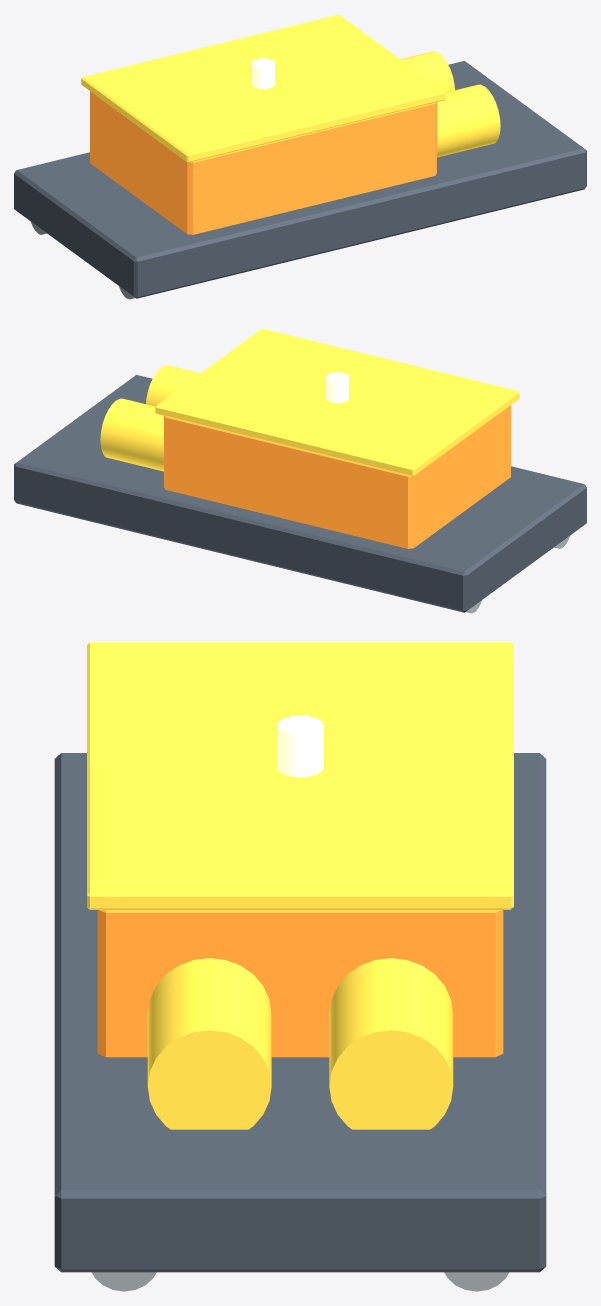
The model's file is rebar-gantry-trolley-v4-high.glb.
3 views of the same model, one above another, from view 1: azimuth 30°, elevation 25°; view 2: azimuth 150°, elevation 25°; view 3: azimuth 270°, elevation 25° (orthographic). The views are drawn at different scales.
Parts seen in each view (by area): view 1: rebar-gantry-trolley-v4-high.glb-v5_heavy_gunmetal, rebar-gantry-trolley-v4-high.glb-v5_crane_yellow, rebar-gantry-trolley-v4-high.glb-v5_crane_orange, rebar-gantry-trolley-v4-high.glb-v5_warm_lamp; view 2: rebar-gantry-trolley-v4-high.glb-v5_heavy_gunmetal, rebar-gantry-trolley-v4-high.glb-v5_crane_yellow, rebar-gantry-trolley-v4-high.glb-v5_crane_orange, rebar-gantry-trolley-v4-high.glb-v5_warm_lamp; view 3: rebar-gantry-trolley-v4-high.glb-v5_crane_yellow, rebar-gantry-trolley-v4-high.glb-v5_heavy_gunmetal, rebar-gantry-trolley-v4-high.glb-v5_crane_orange, rebar-gantry-trolley-v4-high.glb-v5_warm_lamp, rebar-gantry-trolley-v4-high.glb-v5_bright_steel.
Boxes of the visible parts, bbox=[...] form: rebar-gantry-trolley-v4-high.glb-v5_heavy_gunmetal: bbox=[14, 61, 586, 298]; rebar-gantry-trolley-v4-high.glb-v5_crane_yellow: bbox=[81, 14, 500, 162]; rebar-gantry-trolley-v4-high.glb-v5_crane_orange: bbox=[90, 91, 436, 234]; rebar-gantry-trolley-v4-high.glb-v5_warm_lamp: bbox=[252, 58, 274, 89]; rebar-gantry-trolley-v4-high.glb-v5_heavy_gunmetal: bbox=[14, 375, 586, 612]; rebar-gantry-trolley-v4-high.glb-v5_crane_yellow: bbox=[100, 328, 519, 476]; rebar-gantry-trolley-v4-high.glb-v5_crane_orange: bbox=[164, 405, 510, 548]; rebar-gantry-trolley-v4-high.glb-v5_warm_lamp: bbox=[326, 372, 348, 403]; rebar-gantry-trolley-v4-high.glb-v5_crane_yellow: bbox=[87, 642, 513, 1129]; rebar-gantry-trolley-v4-high.glb-v5_heavy_gunmetal: bbox=[54, 753, 546, 1272]; rebar-gantry-trolley-v4-high.glb-v5_crane_orange: bbox=[97, 910, 503, 1057]; rebar-gantry-trolley-v4-high.glb-v5_warm_lamp: bbox=[277, 715, 323, 777]; rebar-gantry-trolley-v4-high.glb-v5_bright_steel: bbox=[92, 1272, 508, 1291].
Bounding box in the file's own units: 9.8 × 3.27 × 4.6.
